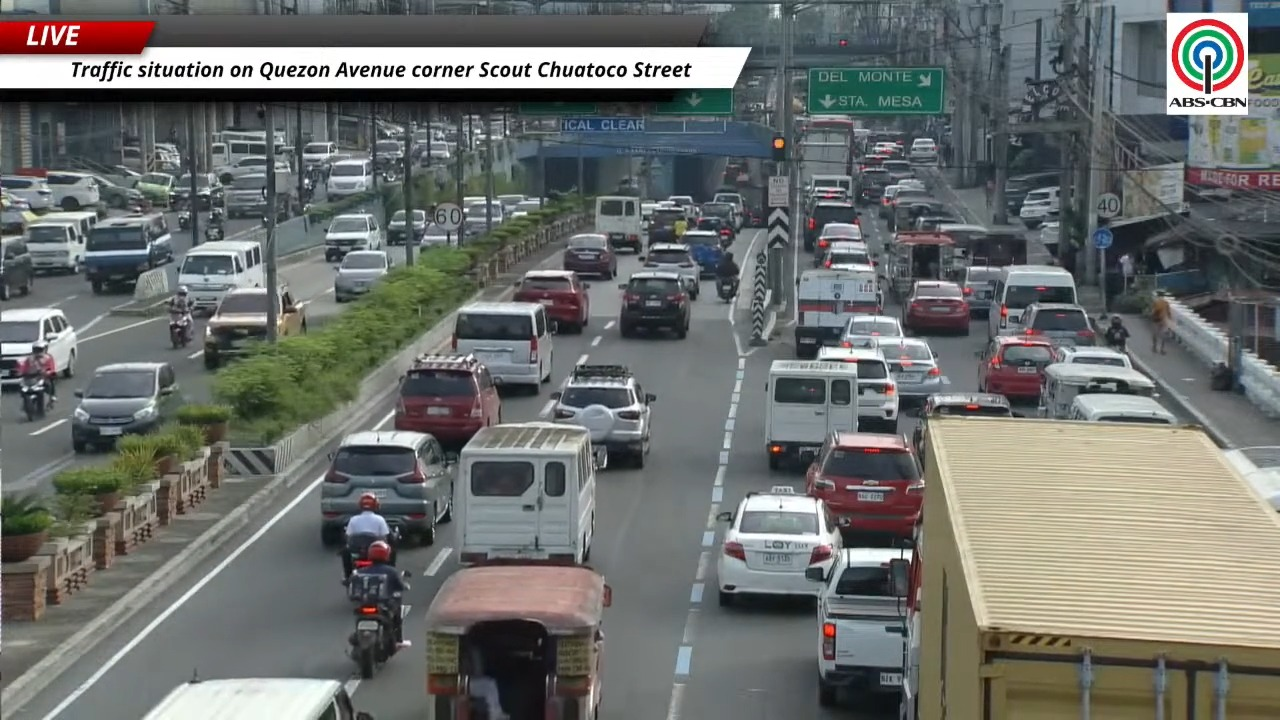car: (321, 430, 454, 545), (717, 485, 842, 606), (806, 431, 923, 537), (550, 364, 655, 467), (71, 362, 182, 452), (394, 354, 501, 446), (202, 285, 306, 369), (912, 392, 1017, 463), (816, 347, 898, 432), (0, 307, 77, 384), (978, 336, 1054, 401), (618, 270, 690, 338), (512, 270, 589, 333), (878, 337, 945, 405), (902, 280, 969, 334), (638, 243, 701, 300), (1021, 302, 1096, 345), (334, 251, 393, 302), (324, 213, 382, 262), (803, 200, 858, 251), (562, 233, 616, 279), (44, 170, 100, 211), (0, 235, 33, 300), (959, 266, 1001, 317), (681, 229, 723, 278), (841, 315, 904, 347), (0, 175, 53, 212), (1054, 345, 1131, 368), (1018, 186, 1059, 228), (815, 240, 874, 268), (386, 209, 428, 245), (134, 172, 176, 206), (698, 202, 740, 234), (856, 166, 891, 204), (818, 220, 864, 248), (693, 216, 735, 243), (419, 223, 458, 248), (878, 182, 903, 218), (881, 154, 914, 181), (170, 173, 191, 208), (908, 138, 937, 163)
motorcycle: (349, 593, 401, 678), (342, 534, 379, 571), (20, 373, 46, 421), (169, 312, 192, 348), (1103, 329, 1126, 353), (716, 277, 737, 301), (205, 224, 223, 241), (719, 230, 733, 249), (179, 209, 191, 230)
truck: (900, 417, 1279, 719), (805, 547, 910, 706), (795, 265, 883, 358), (799, 133, 849, 187), (224, 173, 267, 218)
